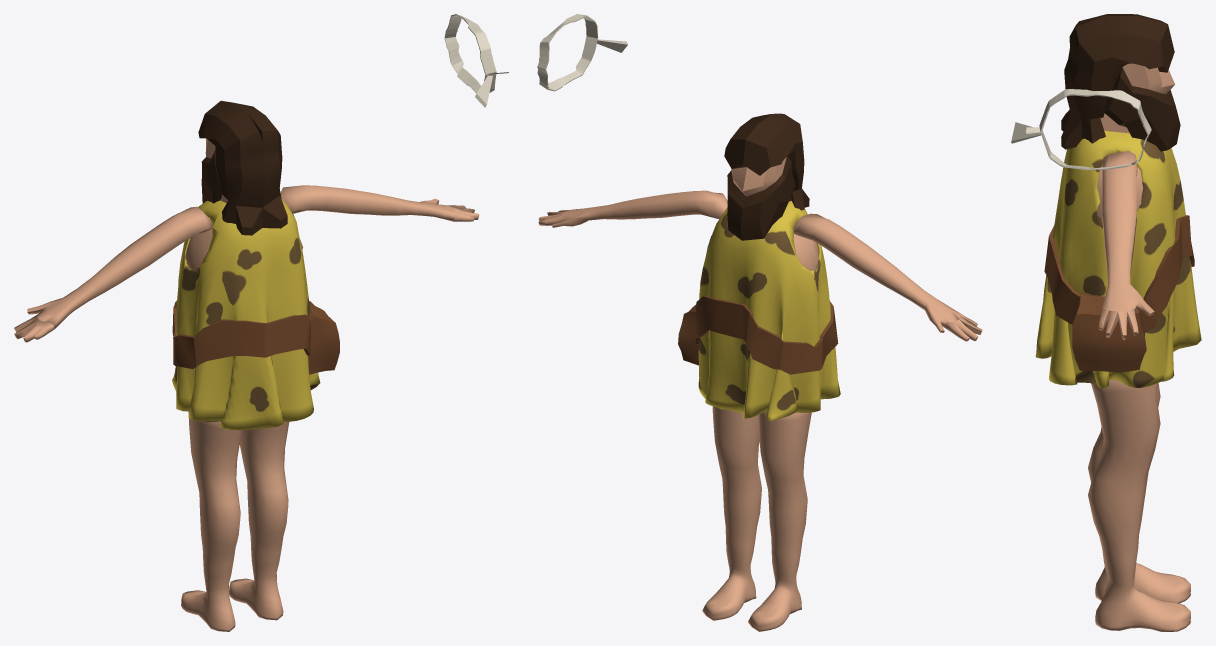
File: caveman_2_mixamo.obj
3 views of the same model, side by side, from view 1: azimuth 30°, elevation 25°; view 2: azimuth 150°, elevation 25°; view 3: azimuth 270°, elevation 25° (orthographic). The views are drawn at different scales.
Parts seen in each view (by area): view 1: Caveman_2_Mixamo; view 2: Caveman_2_Mixamo; view 3: Caveman_2_Mixamo.
Boxes of the visible parts, bbox=[...] form: Caveman_2_Mixamo: bbox=[14, 14, 508, 631]; Caveman_2_Mixamo: bbox=[537, 14, 982, 631]; Caveman_2_Mixamo: bbox=[1011, 14, 1201, 631].
Size of the model in its own units: 1.61 by 1.85 by 0.4963.
Materials: 5 (1 with a texture image).
